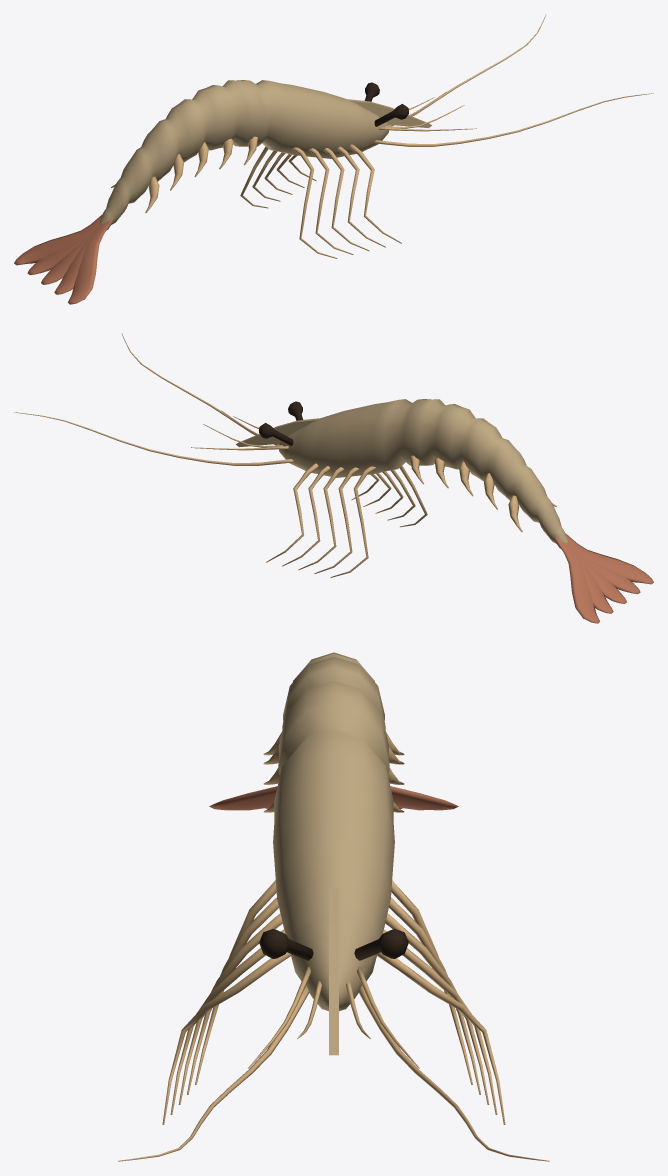
3 renders of one model, top to bottom at view 1: azimuth 30°, elevation 25°; view 2: azimuth 150°, elevation 25°; view 3: azimuth 270°, elevation 25°, orthographic. The views are drawn at different scales.
Parts seen in each view (by area): view 1: Body_continuous_segmented_shell, Tail_fan_blade_0, Tail_fan_blade_4, Antenna_long_L, Rostrum_dorsal_blade, Tail_fan_blade_3, Tail_fan_blade_1, Tail_fan_blade_2, Walking_leg_L1, Walking_leg_L2, Walking_leg_L3, Walking_leg_L5 (+1 smaller); view 2: Body_continuous_segmented_shell, Tail_fan_blade_4, Tail_fan_blade_0, Antenna_long_R, Rostrum_dorsal_blade, Tail_fan_blade_1, Tail_fan_blade_3, Tail_fan_blade_2, Walking_leg_R1, Walking_leg_R2, Walking_leg_R3, Walking_leg_R5 (+1 smaller); view 3: Body_continuous_segmented_shell, Rostrum_dorsal_blade, Walking_leg_L5, Walking_leg_R5, Antenna_long_L, Antenna_long_R, Walking_leg_L3, Walking_leg_R3, Eye_stalk_L, Eye_stalk_R, Walking_leg_L2, Walking_leg_R2 (+6 smaller).
Boxes of the visible parts, x1,y1,x2,y2 form: Body_continuous_segmented_shell: (100,80,388,230); Tail_fan_blade_0: (68,217,113,304); Tail_fan_blade_4: (14,214,102,265); Antenna_long_L: (374,93,653,146); Rostrum_dorsal_blade: (349,99,431,128); Tail_fan_blade_3: (27,222,99,274); Tail_fan_blade_1: (54,224,102,294); Tail_fan_blade_2: (41,223,100,284); Walking_leg_L1: (291,147,337,258); Walking_leg_L2: (308,148,353,254); Walking_leg_L3: (323,148,369,251); Walking_leg_L5: (349,144,401,243); Body_continuous_segmented_shell: (279,399,567,549); Tail_fan_blade_4: (554,536,599,623); Tail_fan_blade_0: (565,533,653,584); Antenna_long_R: (14,412,293,465); Rostrum_dorsal_blade: (236,418,318,447); Tail_fan_blade_1: (568,541,640,593); Tail_fan_blade_3: (565,543,613,613); Tail_fan_blade_2: (567,542,626,603); Walking_leg_R1: (330,466,376,577); Walking_leg_R2: (314,467,359,573); Walking_leg_R3: (298,467,344,570); Walking_leg_R5: (266,463,318,562); Body_continuous_segmented_shell: (273,652,394,1011); Rostrum_dorsal_blade: (329,887,338,1055); Walking_leg_L5: (162,952,290,1124); Walking_leg_R5: (377,952,505,1124); Antenna_long_L: (118,985,308,1161); Antenna_long_R: (359,985,549,1161); Walking_leg_L3: (178,913,282,1104); Walking_leg_R3: (385,913,489,1104); Eye_stalk_L: (259,929,313,960); Eye_stalk_R: (354,929,408,960); Walking_leg_L2: (187,897,278,1094); Walking_leg_R2: (389,897,480,1094).
Bounding box in the file's own units: 0.3172 × 0.0919 × 0.1062.
